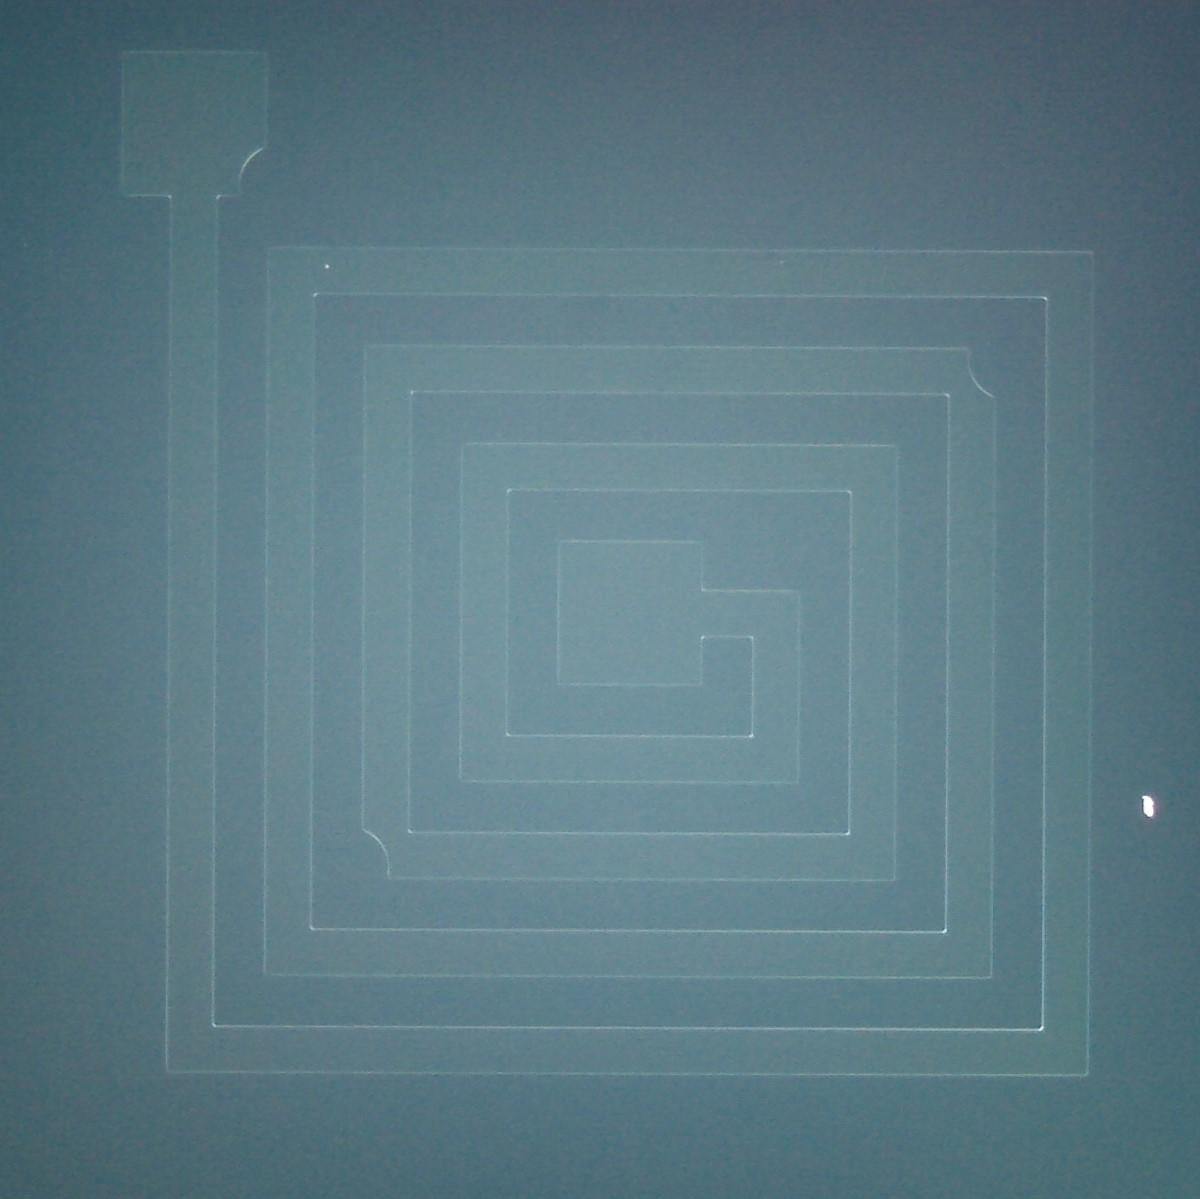B_point: (1137, 794, 1157, 821)
cut: (189, 120, 287, 216), (928, 330, 1017, 434), (346, 804, 436, 894)
s_point: (323, 262, 332, 272)
